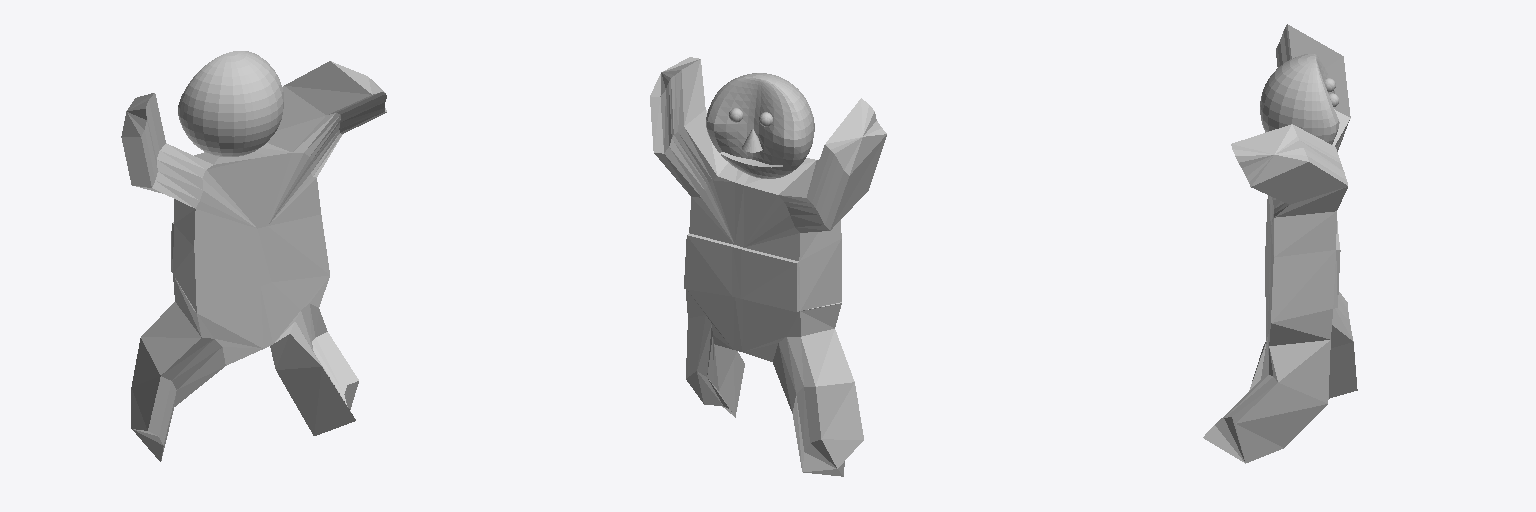
The model's file is manjump_000028.obj.
3 views of the same model, side by side, from view 1: azimuth 30°, elevation 25°; view 2: azimuth 150°, elevation 25°; view 3: azimuth 270°, elevation 25° (orthographic).
Visible parts, largest first — view 1: Cube; view 2: Cube; view 3: Cube.
Boxes of the visible parts, box(x1,y1,x2,y2) form: Cube: box(121, 51, 386, 461); Cube: box(650, 57, 886, 476); Cube: box(1203, 24, 1357, 463).
Size of the model in its own units: 80.82 by 127 by 46.4.